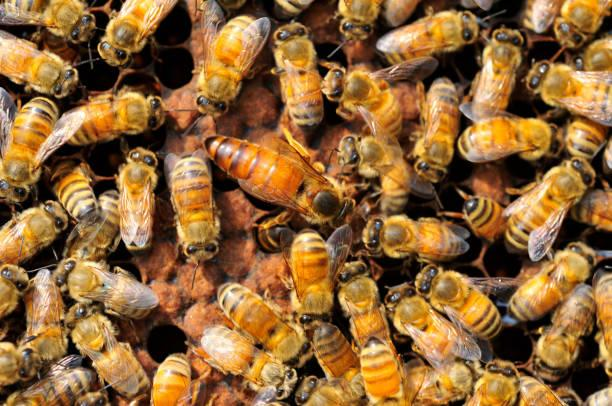Queen-Bee: (195, 123, 360, 249), (204, 135, 353, 227)
worker-bee: (503, 157, 595, 261), (0, 94, 85, 202), (196, 0, 270, 117), (384, 282, 481, 367), (65, 303, 149, 397), (217, 282, 310, 365), (195, 325, 297, 398), (281, 225, 351, 327), (509, 242, 594, 320), (414, 265, 501, 339), (53, 257, 158, 318), (164, 150, 220, 264), (322, 63, 402, 139), (534, 283, 595, 381), (460, 26, 523, 120), (66, 87, 164, 145), (376, 9, 479, 64), (272, 20, 323, 131), (526, 61, 611, 126), (97, 0, 177, 67), (0, 30, 78, 97), (362, 214, 469, 262), (413, 77, 459, 182), (337, 260, 390, 346), (458, 117, 559, 162), (0, 200, 68, 264), (117, 147, 157, 252), (0, 0, 95, 42)
